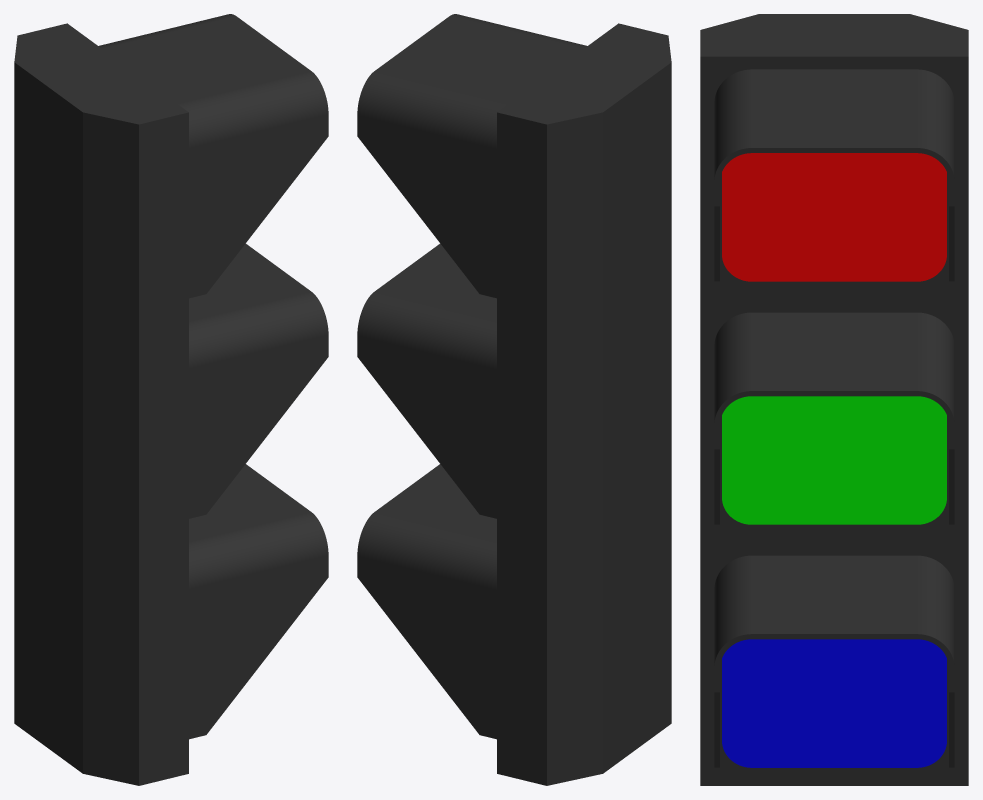
File: RoadTFLight_5type.FBX
The picture shows the model from 3 angles, left to right: view 1: azimuth 30°, elevation 25°; view 2: azimuth 150°, elevation 25°; view 3: azimuth 270°, elevation 25°; orthographic projection. The views are drawn at different scales.
Parts seen in each view (by area): view 1: RoadTFLight_5type; view 2: RoadTFLight_5type; view 3: RoadTFLight_5type.
Part boxes in pixels (<box>): RoadTFLight_5type: <box>14,14,328,785</box>; RoadTFLight_5type: <box>357,14,671,785</box>; RoadTFLight_5type: <box>700,14,968,785</box>.
Size of the model in its own units: 38 by 107 by 35.5.
